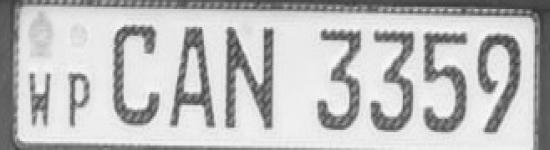3: (313, 19, 368, 139), (367, 21, 420, 138)
5: (420, 22, 472, 143)
9: (477, 27, 528, 146)
A: (167, 19, 223, 136)
C: (107, 16, 167, 133)
N: (226, 16, 282, 139)
P: (65, 65, 100, 130)
W: (24, 64, 60, 132)
